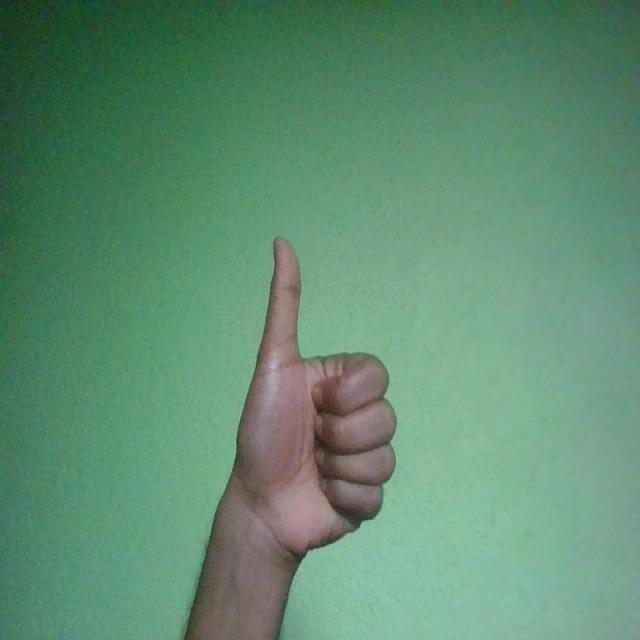Good Job: (233, 233, 398, 566)
